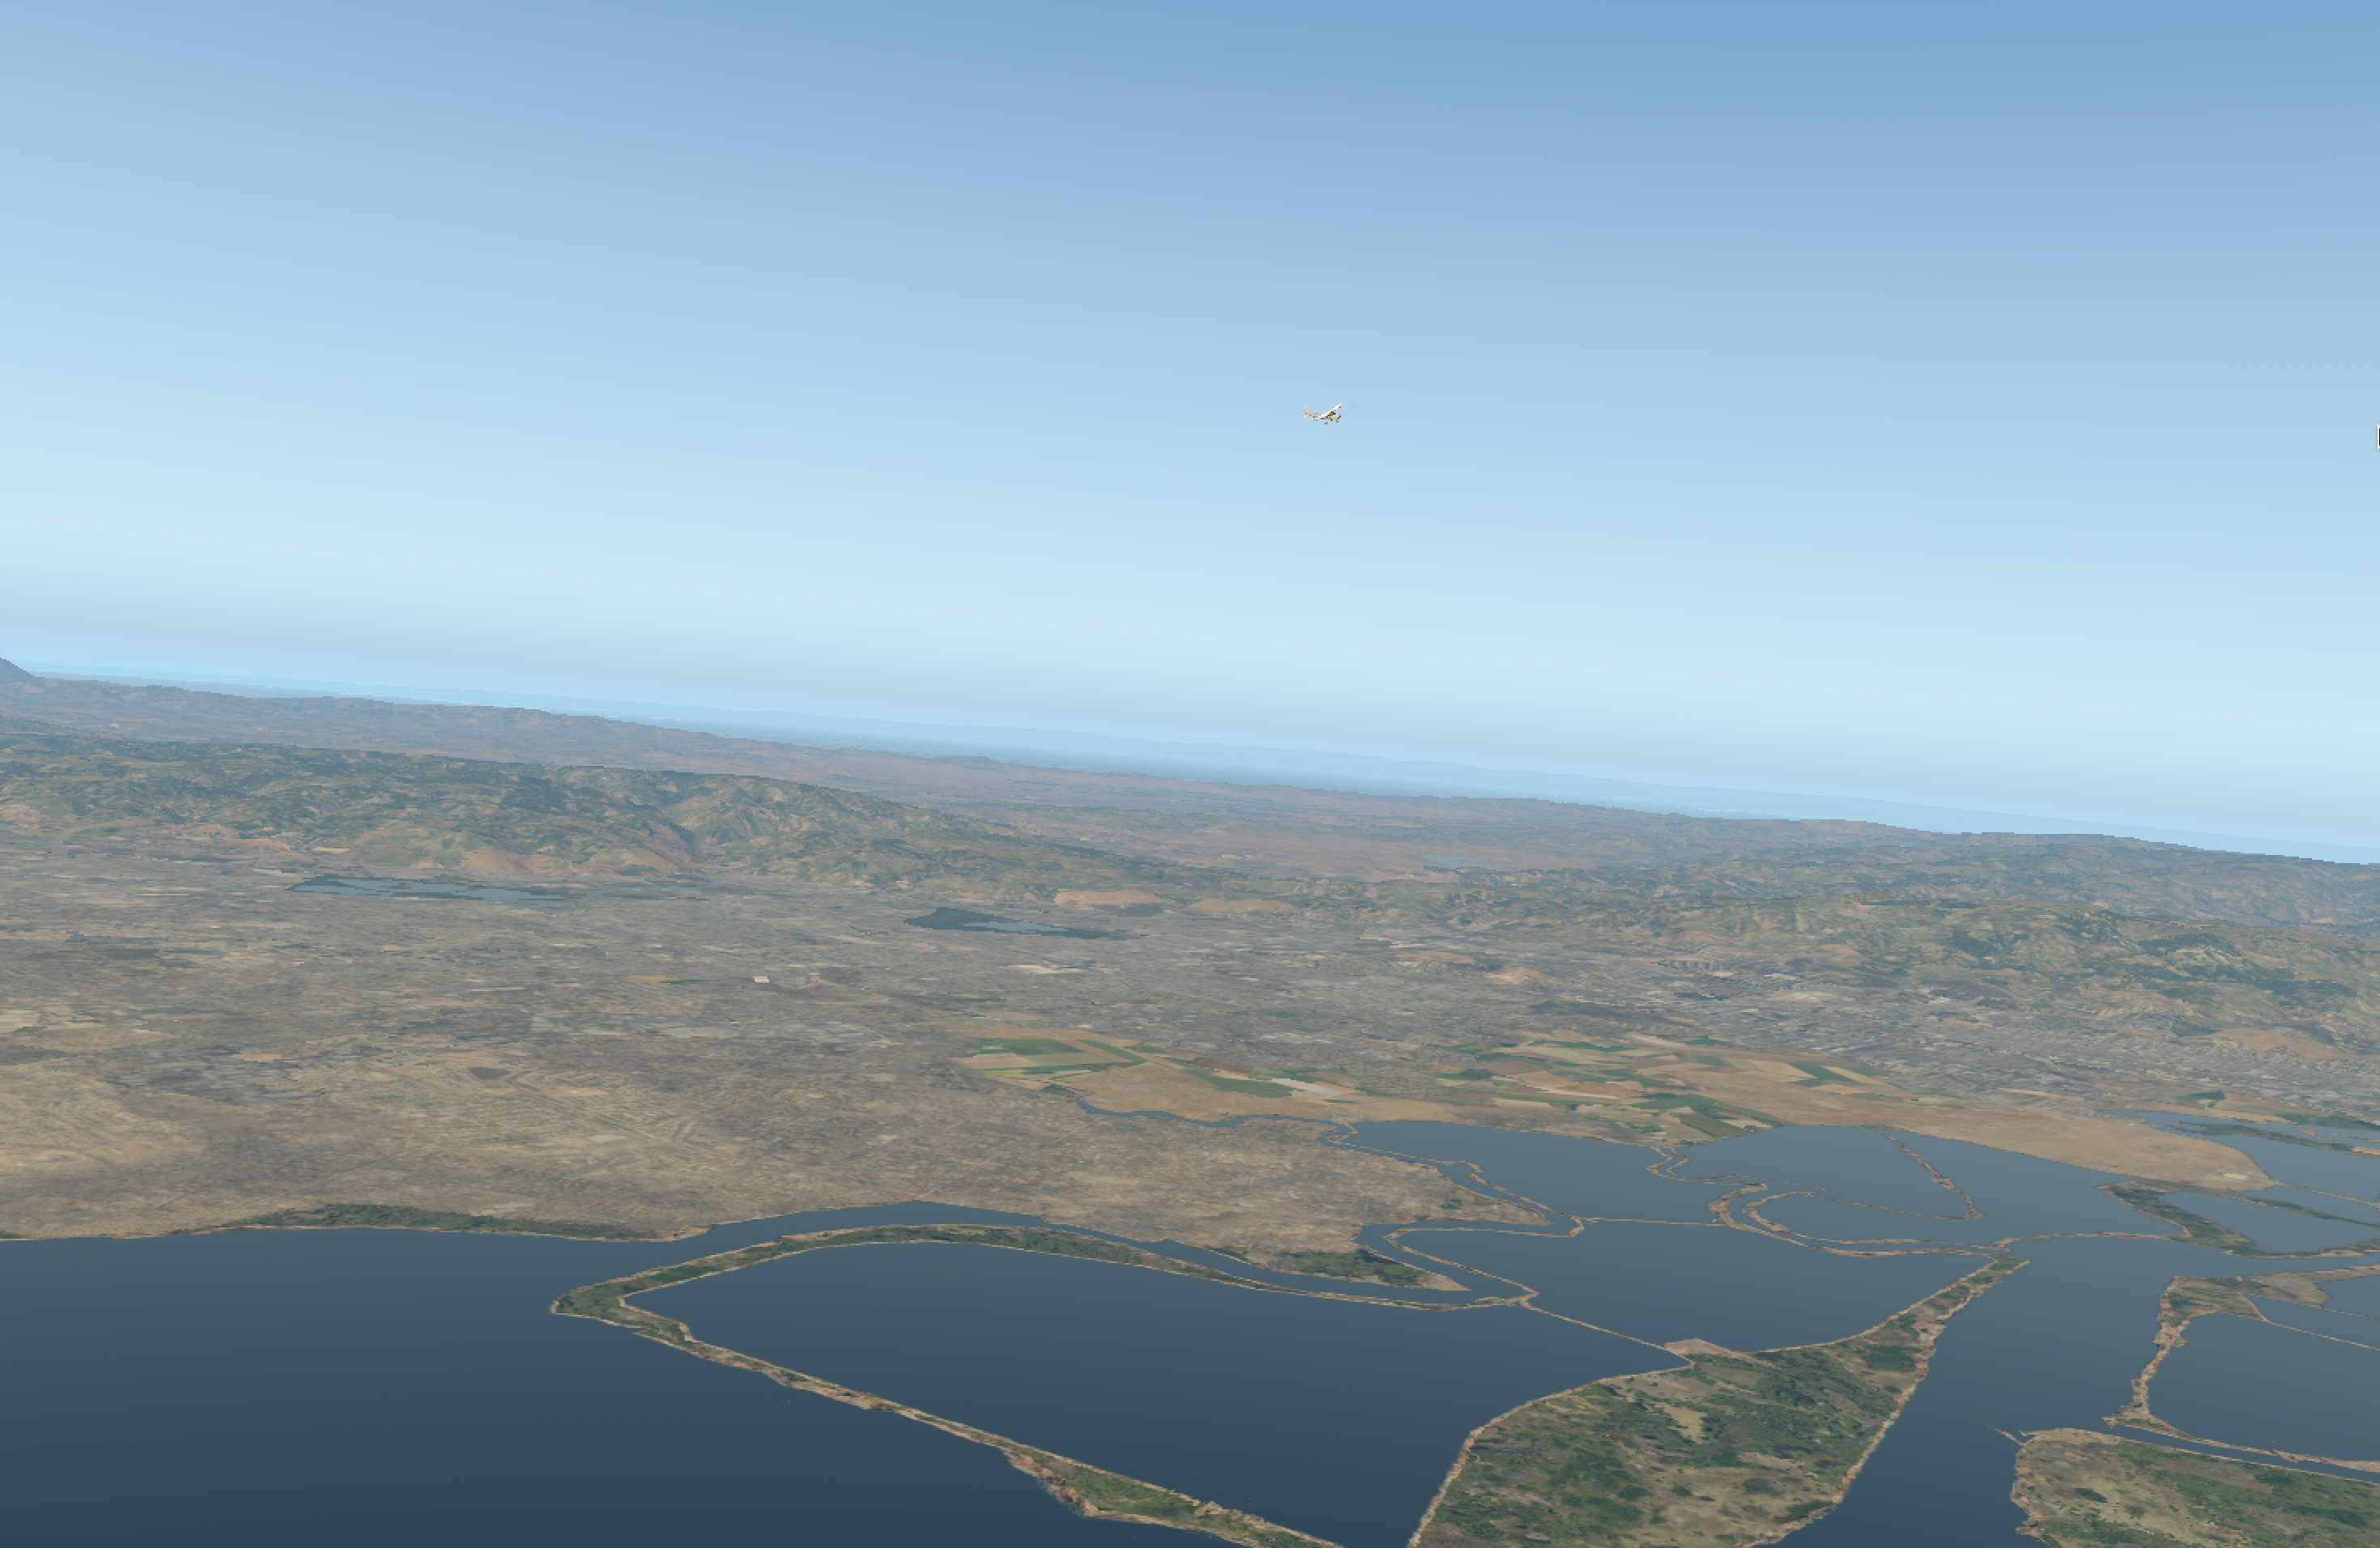aircraft: (1310, 408, 1351, 423)
